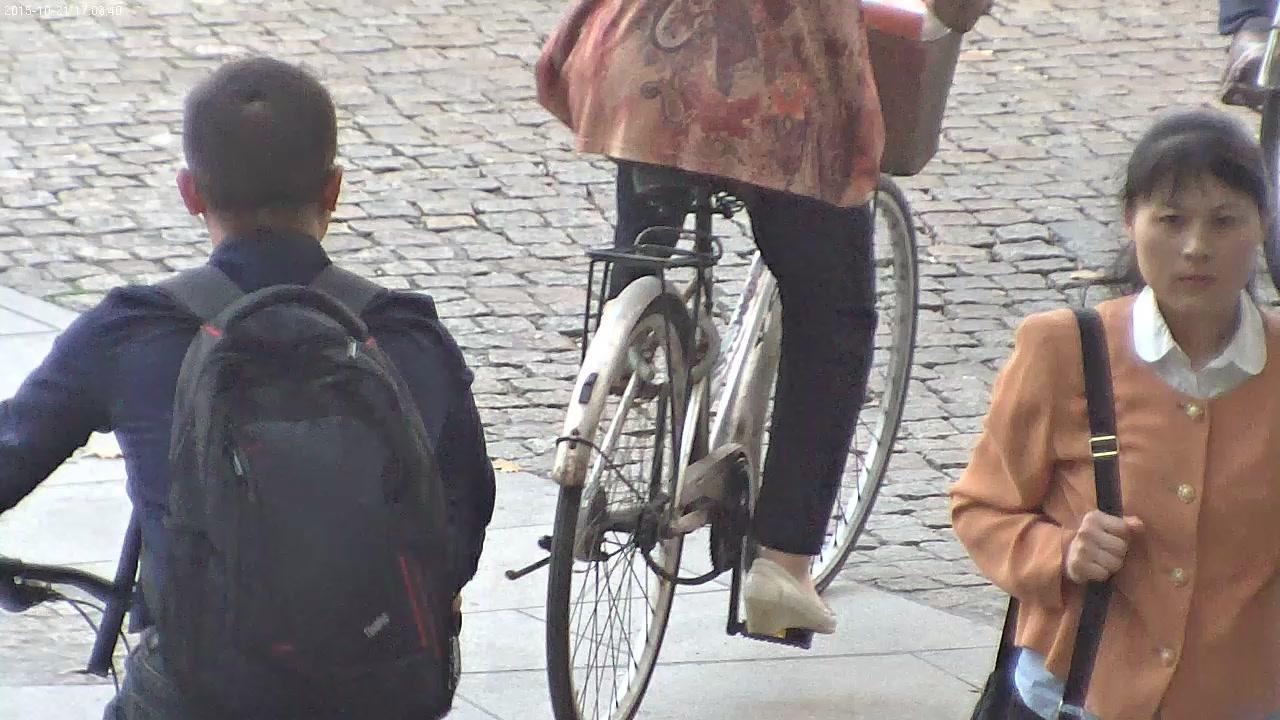person: (531, 0, 997, 720), (0, 54, 499, 720), (0, 56, 498, 720), (533, 0, 997, 636), (951, 101, 1280, 720)
